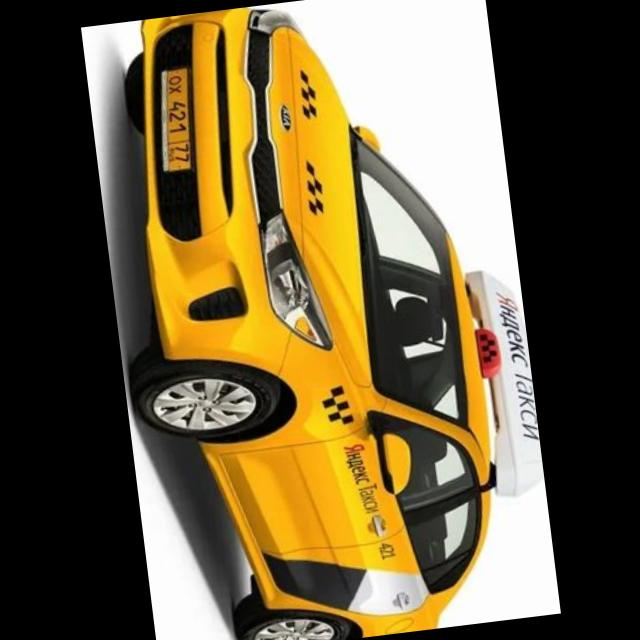taxi: (85, 1, 561, 640)
